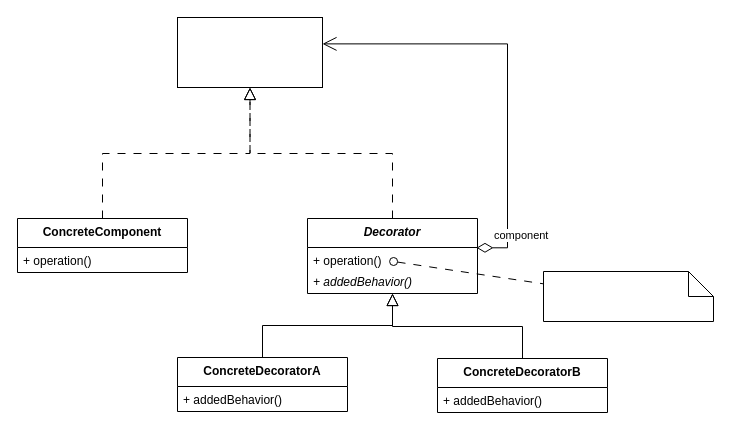
Image size: 731x433. Some labels were removed from this diagram. Here are the shapes that lost their labels. From the top down, the centre of each, then its label:
At point (249, 52): "<<Interface>> Component + operation()".
At point (628, 296): "this.component.operation(); this.addedBehavior();".
